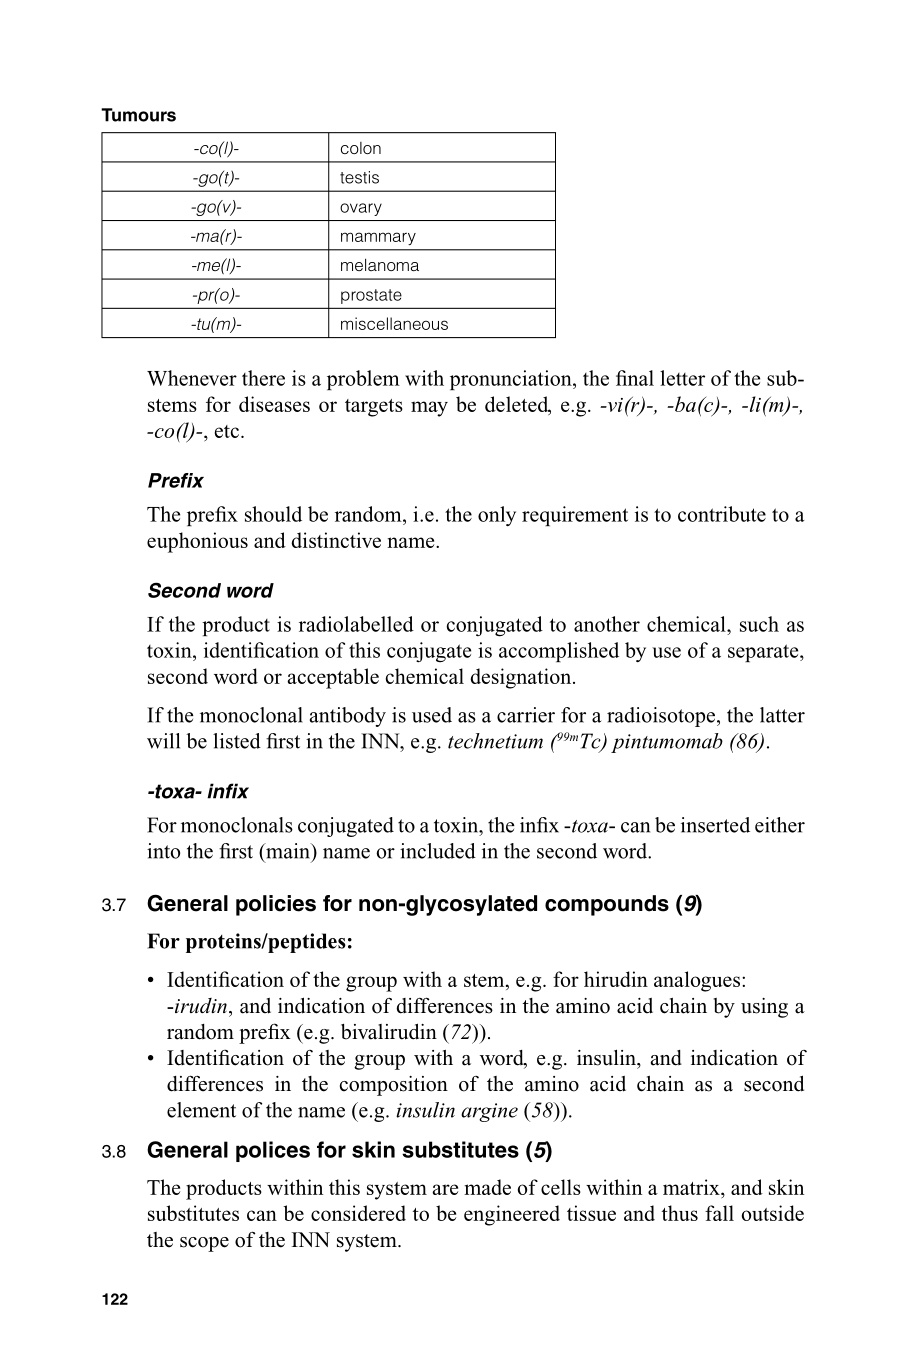full_lined: (96, 129, 571, 342)
